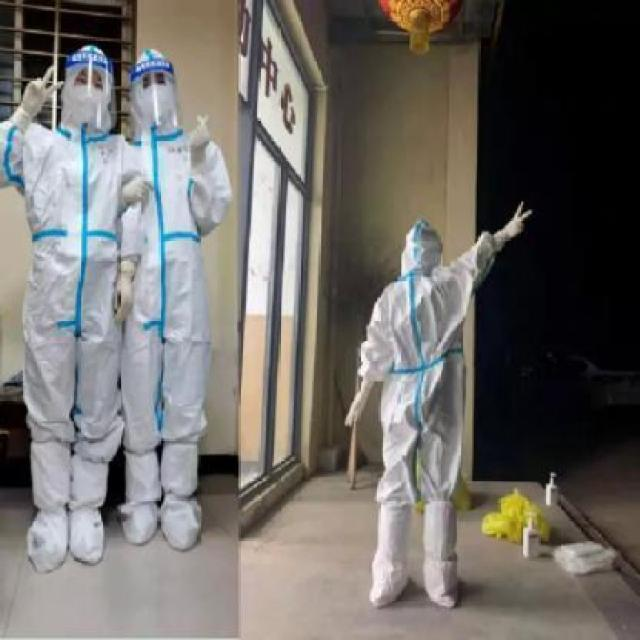face_nomask: (72, 71, 108, 118), (138, 74, 172, 117)
hand_glove: (20, 64, 65, 116), (496, 199, 536, 246), (188, 114, 215, 168), (120, 172, 154, 208), (342, 383, 368, 428), (114, 272, 135, 323)
person: (342, 166, 549, 609), (0, 41, 132, 576), (127, 40, 256, 569)
